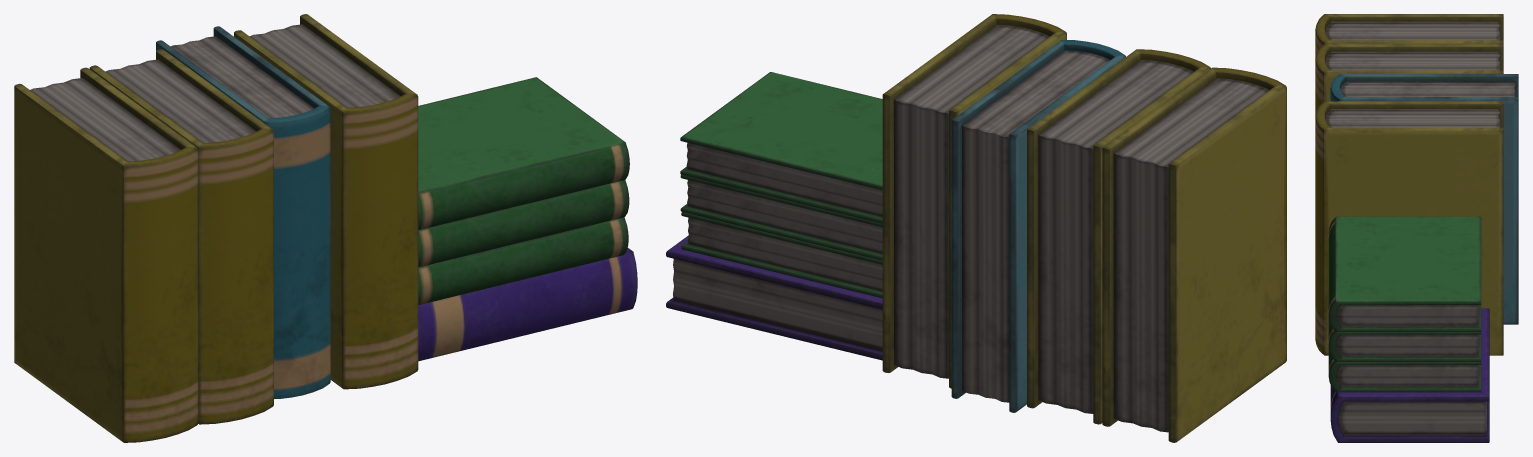
The model's file is Books_V4.fbx.
3 renders of one model, left to right at view 1: azimuth 30°, elevation 25°; view 2: azimuth 150°, elevation 25°; view 3: azimuth 270°, elevation 25°, orthographic. The views are drawn at different scales.
Parts seen in each view (by area): view 1: Books_v4; view 2: Books_v4; view 3: Books_v4.
Part boxes in pixels (x1,y1,x2,y2): Books_v4: [14, 14, 637, 442]; Books_v4: [666, 14, 1286, 442]; Books_v4: [1315, 14, 1518, 442].
Bounding box in the file's own units: 139 × 70.98 × 57.87.
1 material, 1 textured.
